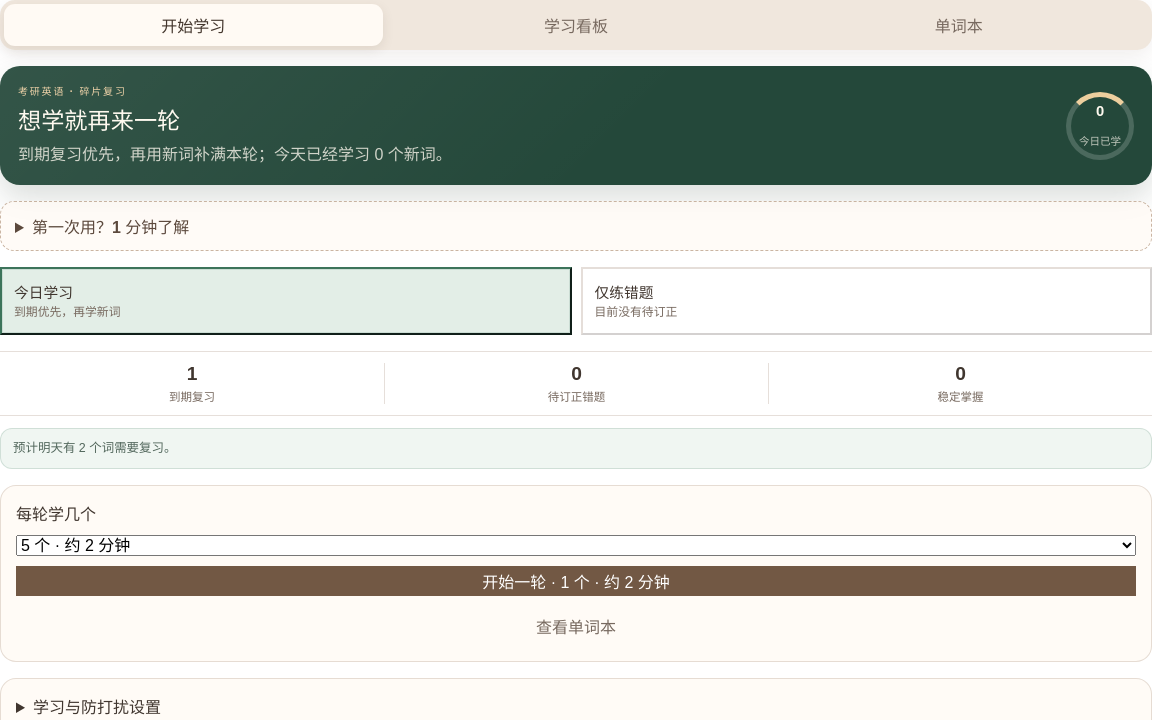
Scenario: learning micro-session › explains a rejected learning start and refreshes the actual state: a higher priority presentation is active
Click the button "开始一轮 · 1 个 · 约 2 分钟": [576, 581] box [16, 566, 1136, 596]
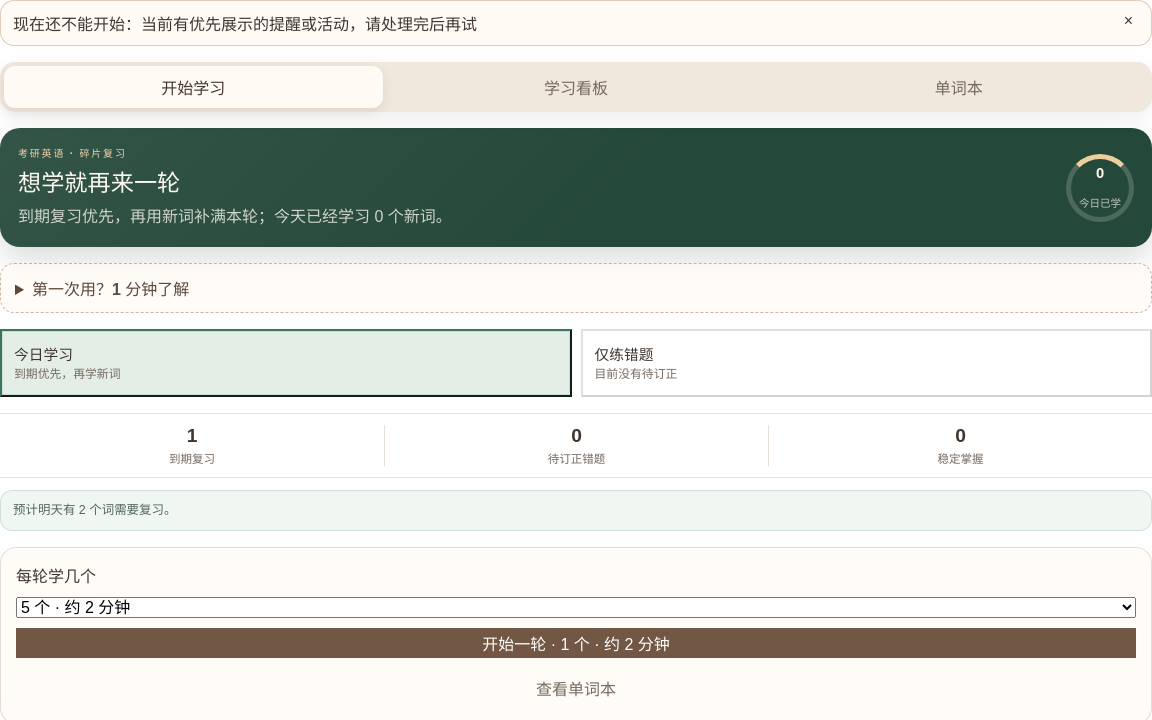
Click the button "开始一轮 · 1 个 · 约 2 分钟": [576, 643] box [16, 628, 1136, 658]
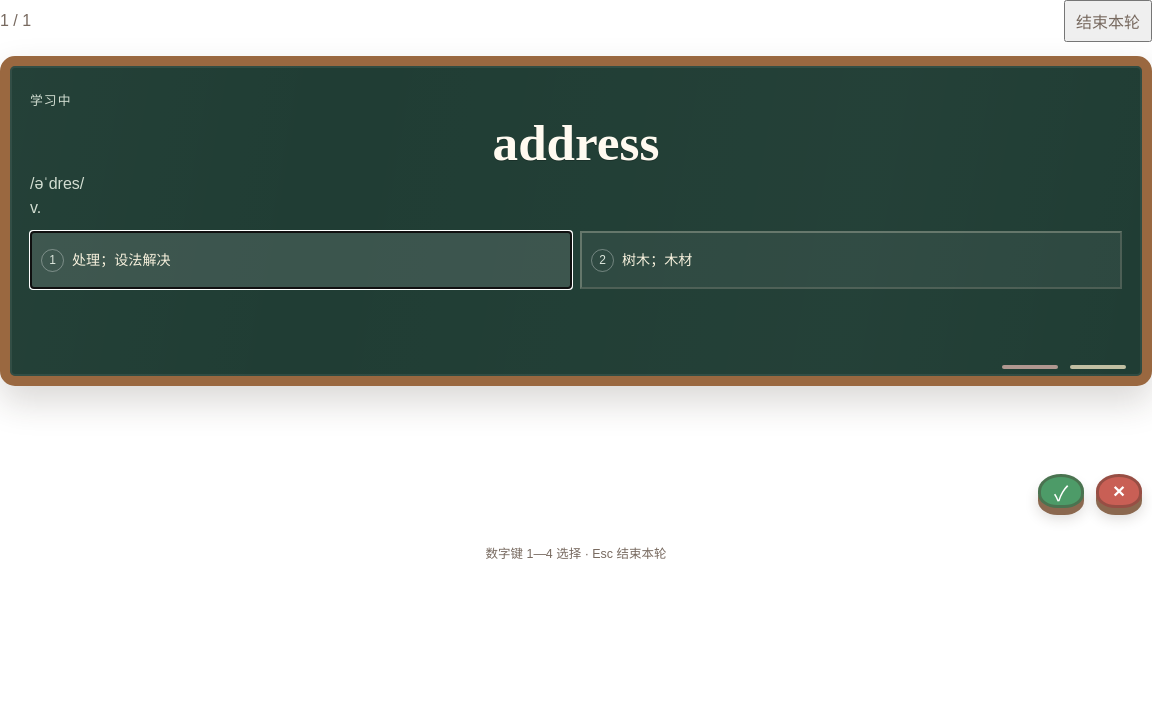
Now the text "address" is shown, box [492, 114, 659, 171]
